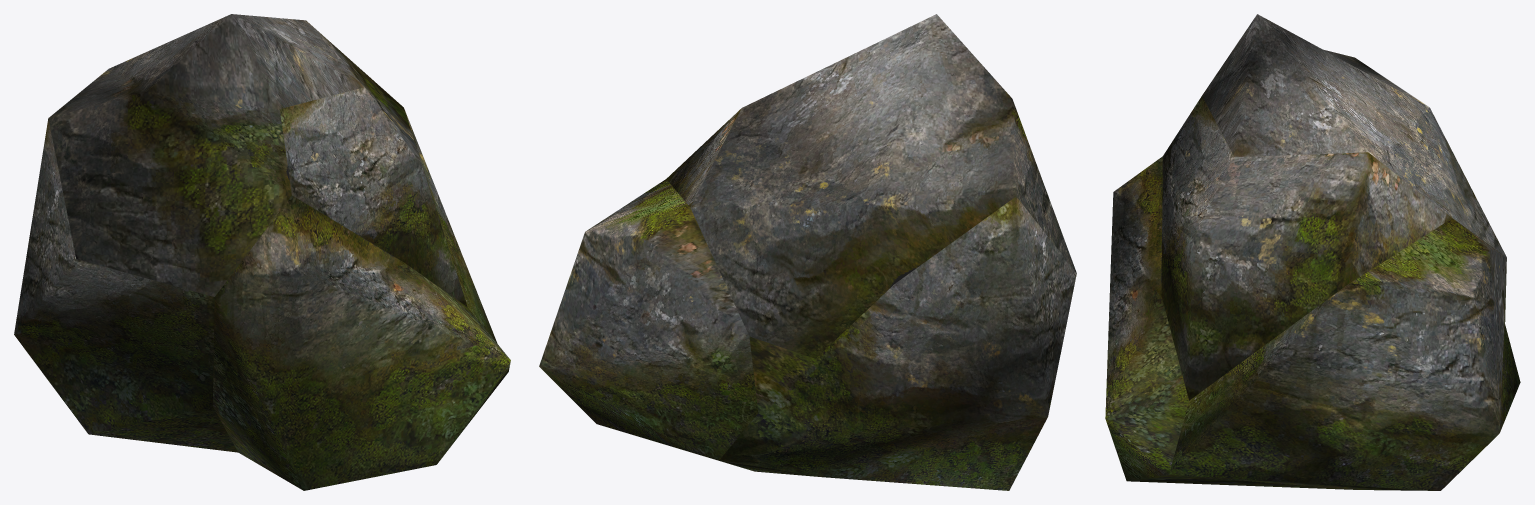
Rendered from Rock05_lod2.glb.
3 views of the same model, side by side, from view 1: azimuth 30°, elevation 25°; view 2: azimuth 150°, elevation 25°; view 3: azimuth 270°, elevation 25° (orthographic). The views are drawn at different scales.
Visible parts, largest first — view 1: common_rock05_lod2; view 2: common_rock05_lod2; view 3: common_rock05_lod2.
Part boxes in pixels (<box>): common_rock05_lod2: <box>14,14,510,490</box>; common_rock05_lod2: <box>539,14,1076,490</box>; common_rock05_lod2: <box>1105,14,1520,490</box>.
Bounding box in the file's own units: 3.55 × 3.54 × 3.18.
1 material, 1 textured.
